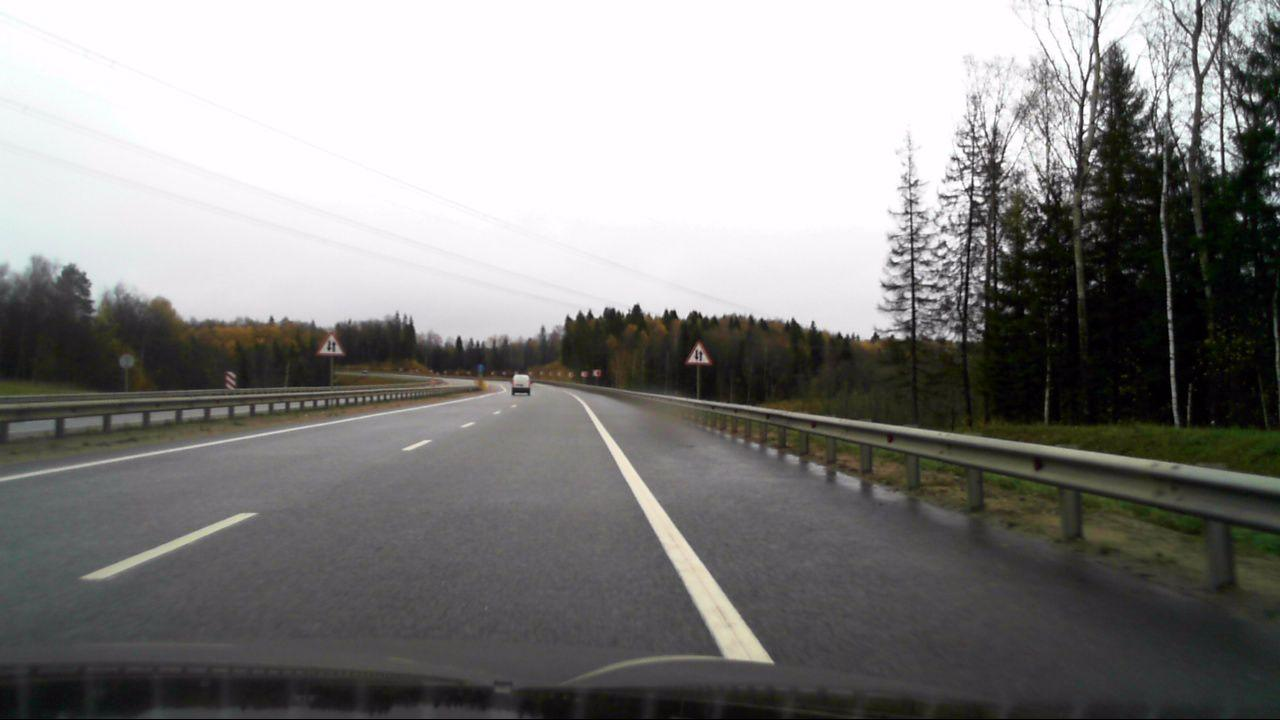1_21: (315, 330, 344, 356), (684, 341, 711, 365)
1_34_2: (592, 369, 603, 378), (568, 370, 574, 378), (581, 371, 588, 377), (557, 371, 563, 377), (549, 371, 554, 376), (540, 371, 544, 375)
